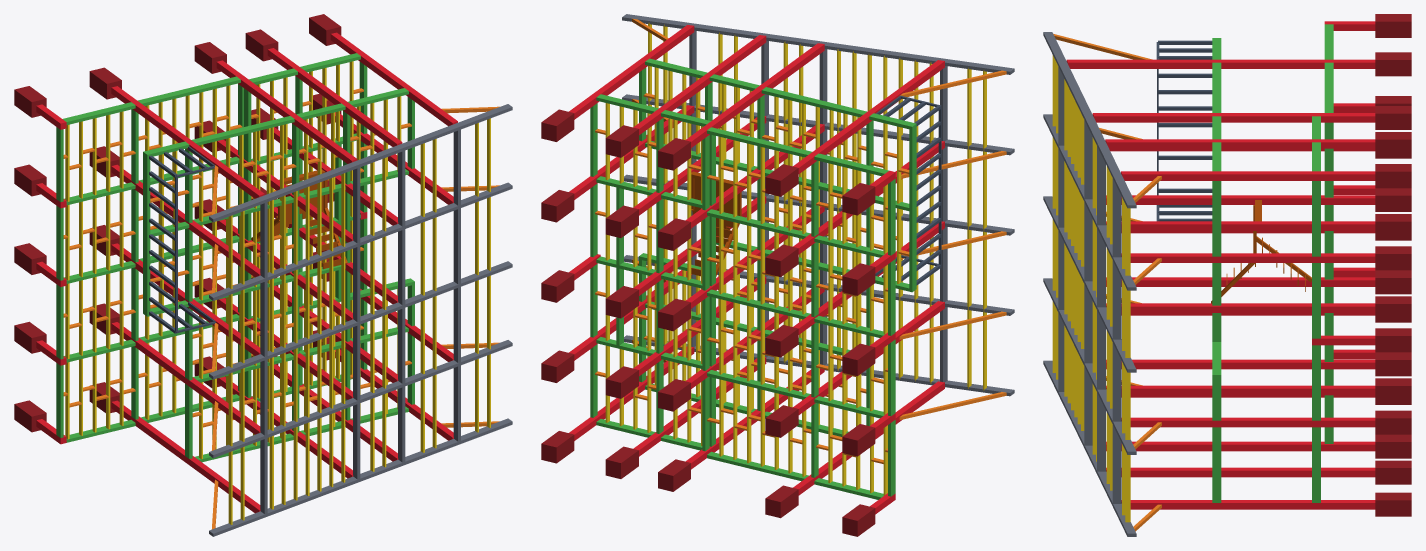
The model's file is tinker.obj.
3 views of the same model, side by side, from view 1: azimuth 30°, elevation 25°; view 2: azimuth 150°, elevation 25°; view 3: azimuth 270°, elevation 25° (orthographic). The views are drawn at different scales.
Visible parts, largest first — view 1: obj_574, obj_1, obj_20, obj_2, obj_15, obj_3, obj_4, obj_6, obj_11, obj_7, obj_21, obj_9 (+45 smaller); view 2: obj_574, obj_1, obj_2, obj_3, obj_4, obj_20, obj_15, obj_7, obj_21, obj_12, obj_16, obj_9 (+63 smaller); view 3: obj_574, obj_1, obj_2, obj_18, obj_3, obj_17, obj_22, obj_4, obj_16, obj_21, obj_9, obj_23 (+60 smaller).
Part boxes in pixels (x1,y1,x2,y2): obj_574: (149,146,215,333); obj_1: (111,86,264,198); obj_20: (111,400,260,513); obj_2: (216,60,357,163); obj_15: (111,322,260,434); obj_3: (267,48,402,146); obj_4: (330,32,457,126); obj_6: (111,164,260,277); obj_11: (111,243,260,355); obj_7: (217,139,353,242); obj_21: (217,376,353,478); obj_9: (330,112,453,204); obj_574: (875,95,941,285); obj_1: (793,60,944,173); obj_2: (685,43,824,147); obj_3: (633,35,766,135); obj_4: (569,25,694,119); obj_20: (793,381,944,495); obj_15: (793,301,944,414); obj_7: (685,124,824,228); obj_21: (685,368,824,469); obj_12: (685,206,824,308); obj_16: (685,288,824,388); obj_9: (569,105,694,199); obj_574: (1156,40,1212,221); obj_1: (1066,59,1375,68); obj_2: (1092,113,1375,122); obj_18: (1121,417,1375,427); obj_3: (1105,139,1375,148); obj_17: (1106,385,1375,395); obj_22: (1106,467,1375,477); obj_4: (1121,171,1375,180); obj_16: (1106,359,1375,369); obj_21: (1106,441,1375,451); obj_9: (1121,253,1375,262); obj_23: (1121,500,1375,509).
Bounding box in the file's own units: 120 × 105 × 102.
